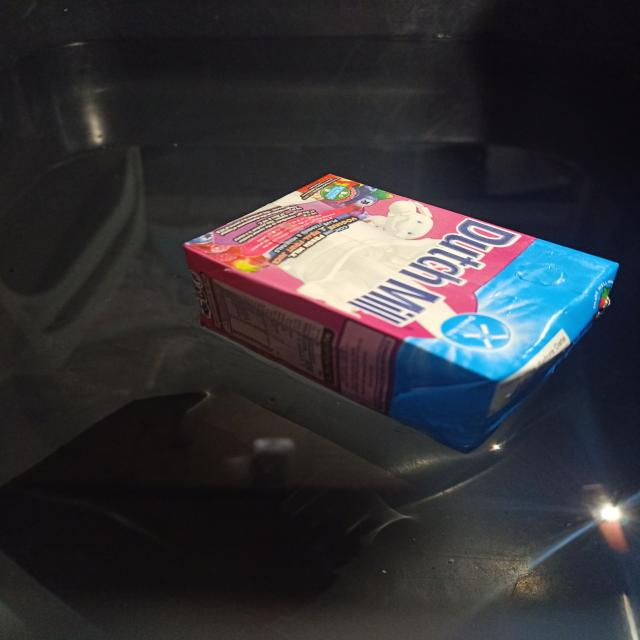Cardboard Box: (183, 175, 618, 450)
